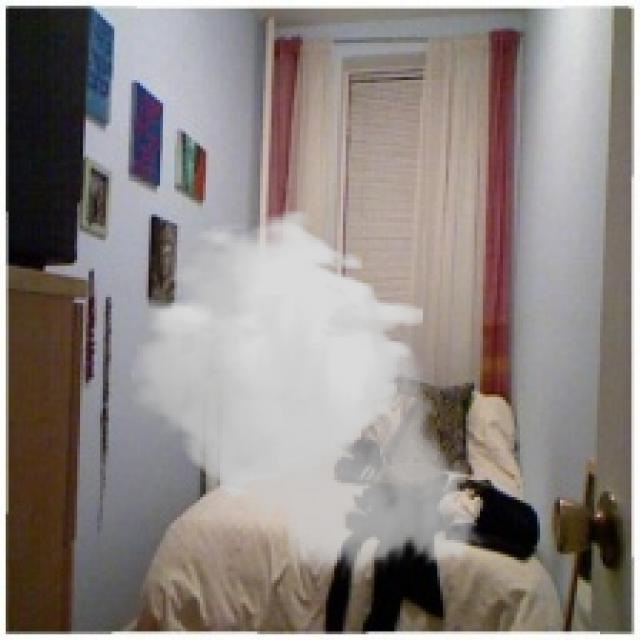Smoke: (132, 208, 492, 586)
